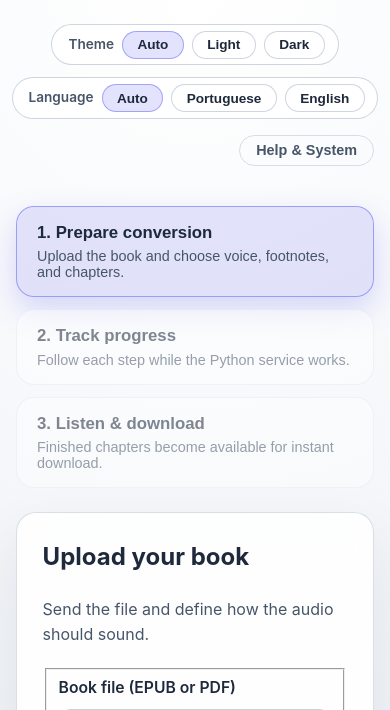
Test: App integration › loads explicit HTTP help diagnostics without duplicating the API prefix
The width and height of the screenshot is (390, 710).
Click the button "Help & System" at coordinates (307, 150), box [239,135,374,166]
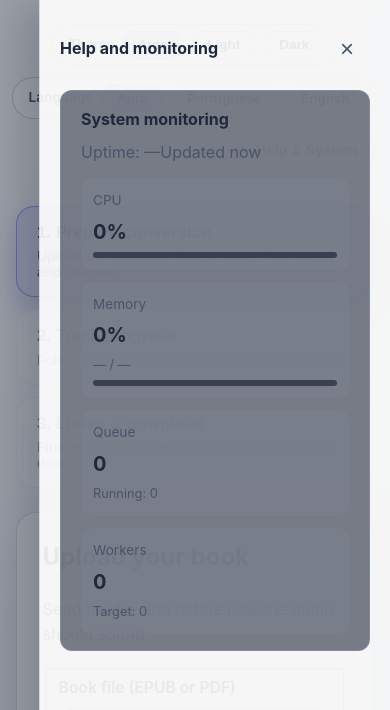
Click the button named "Close panel" at coordinates (347, 49), box [324,24,370,74]
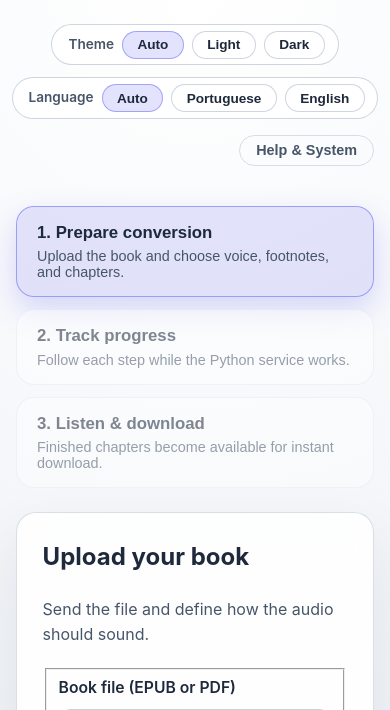
Click the button "Help & System" at coordinates (307, 150), box [239,135,374,166]
(page scrolled)
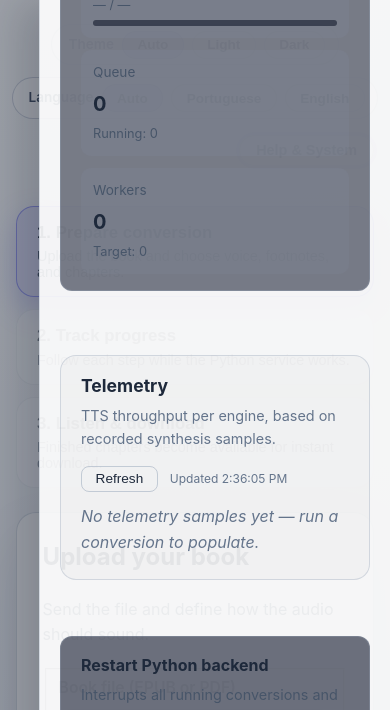
Expected: the element with test id "telemetry-panel" is shown, [60,355,370,580]
